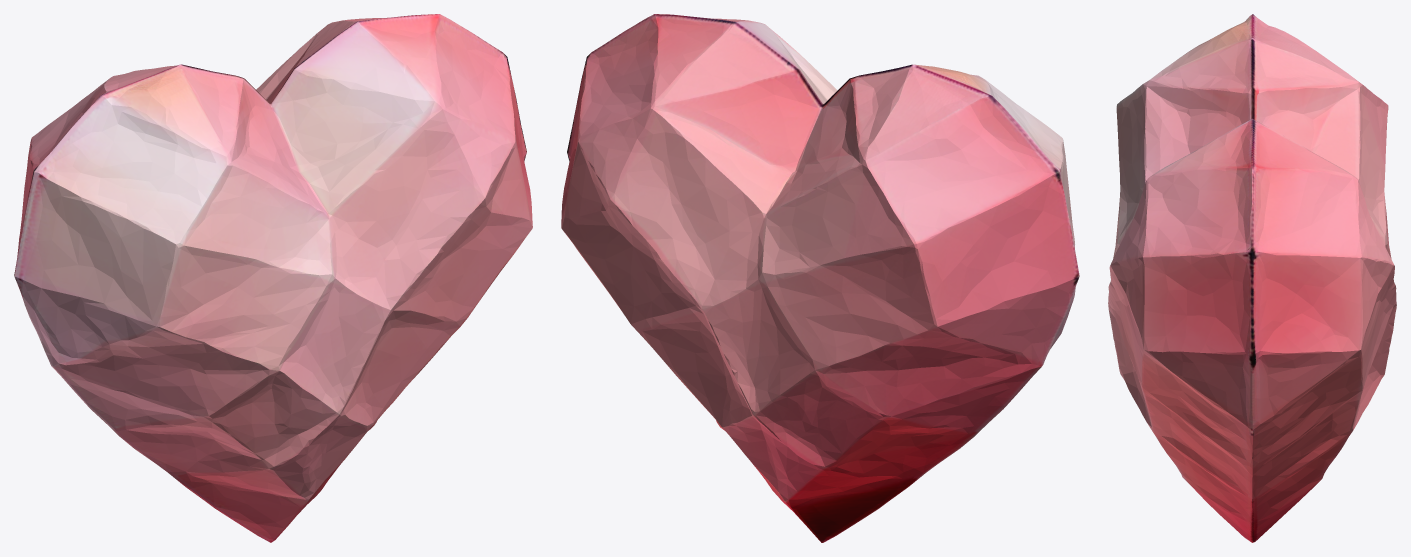
File: healing-crystal-heart-love-stones-tumbled-polished.glb
3 views of the same model, side by side, from view 1: azimuth 30°, elevation 25°; view 2: azimuth 150°, elevation 25°; view 3: azimuth 270°, elevation 25° (orthographic). The views are drawn at different scales.
Parts seen in each view (by area): view 1: tmpuz_ieyws.ply; view 2: tmpuz_ieyws.ply; view 3: tmpuz_ieyws.ply.
Boxes of the visible parts, <box> form: tmpuz_ieyws.ply: <box>14,14,532,542</box>; tmpuz_ieyws.ply: <box>561,14,1079,542</box>; tmpuz_ieyws.ply: <box>1108,14,1396,542</box>.
Size of the model in its own units: 1.99 by 1.86 by 1.05.
1 material, 1 textured.
